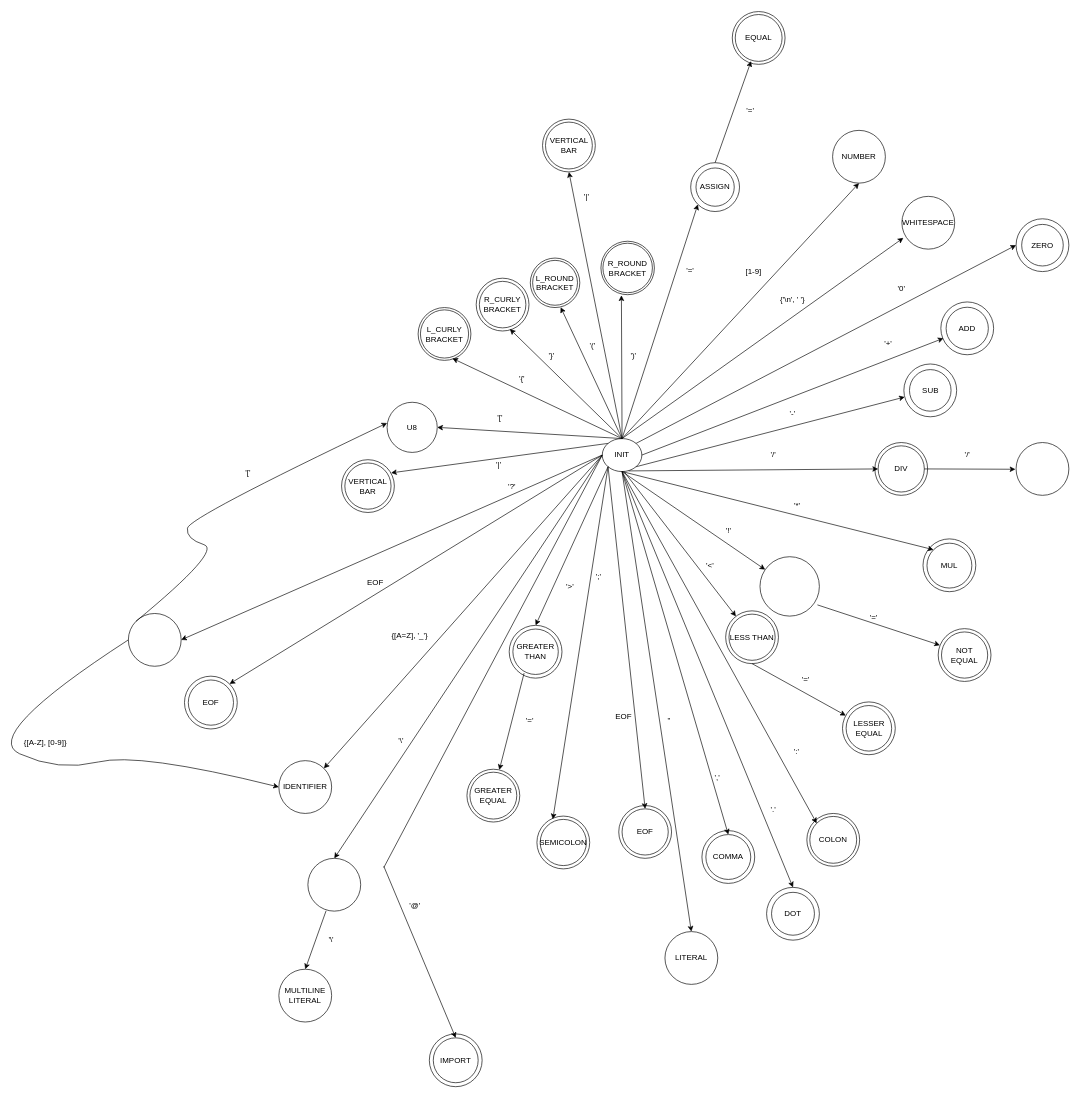
The diagram is 1081 pixels wide and 1098 high, and some of its shapes have lost their labels. Here are the shapes that lost their labels. From the top down, the centre of each, then its label:
(x=1042, y=468): COMMENT
(x=789, y=586): EXCLAMATION MARK
(x=154, y=639): QUESTION MARK
(x=334, y=884): ESCAPE
